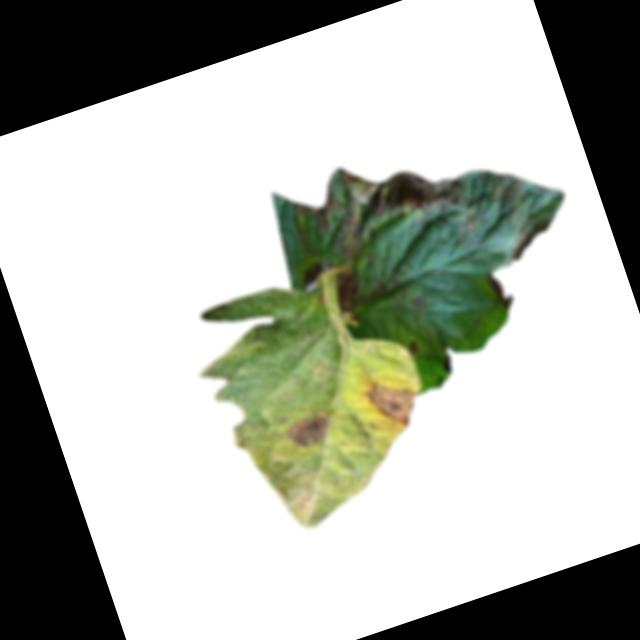Early_blight: (282, 130, 475, 274), (358, 372, 422, 438), (281, 409, 338, 454), (501, 218, 557, 261), (483, 267, 520, 316), (332, 266, 370, 310), (401, 338, 418, 353)
